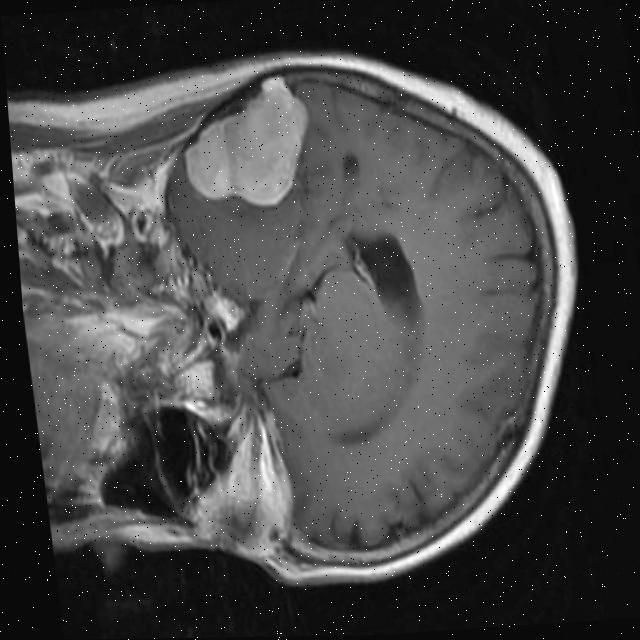Meningioma: (175, 75, 321, 213)
